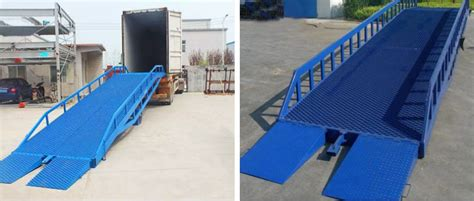Yard Ramp: (244, 1, 472, 201), (1, 66, 160, 191)
